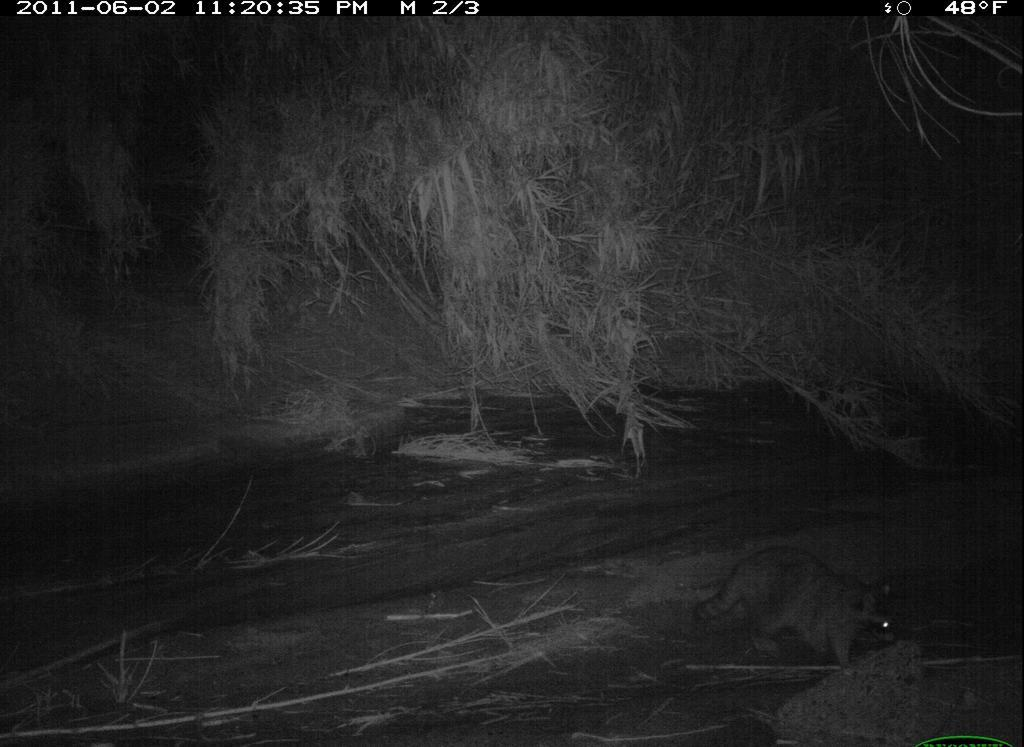raccoon: (689, 537, 920, 680)
